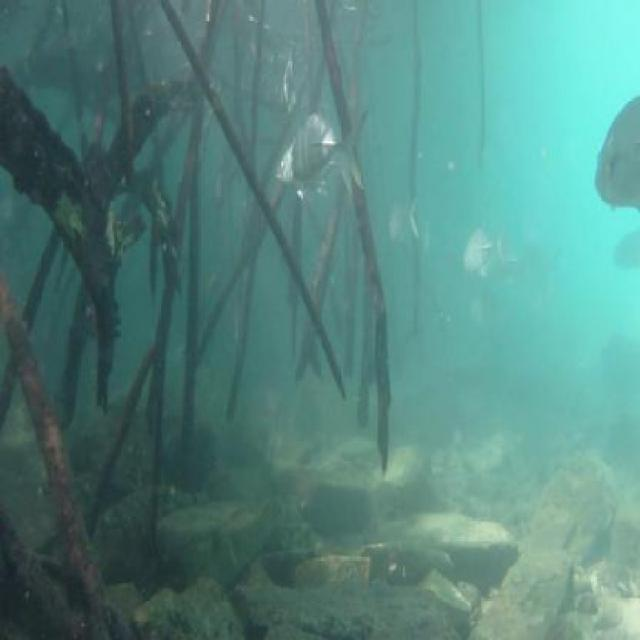Caranx_sexfasciatus_juvenile: (591, 88, 640, 222), (286, 111, 362, 187), (274, 134, 364, 186), (454, 218, 512, 288), (506, 227, 566, 293), (384, 187, 424, 264), (603, 212, 640, 274), (279, 54, 303, 115)
